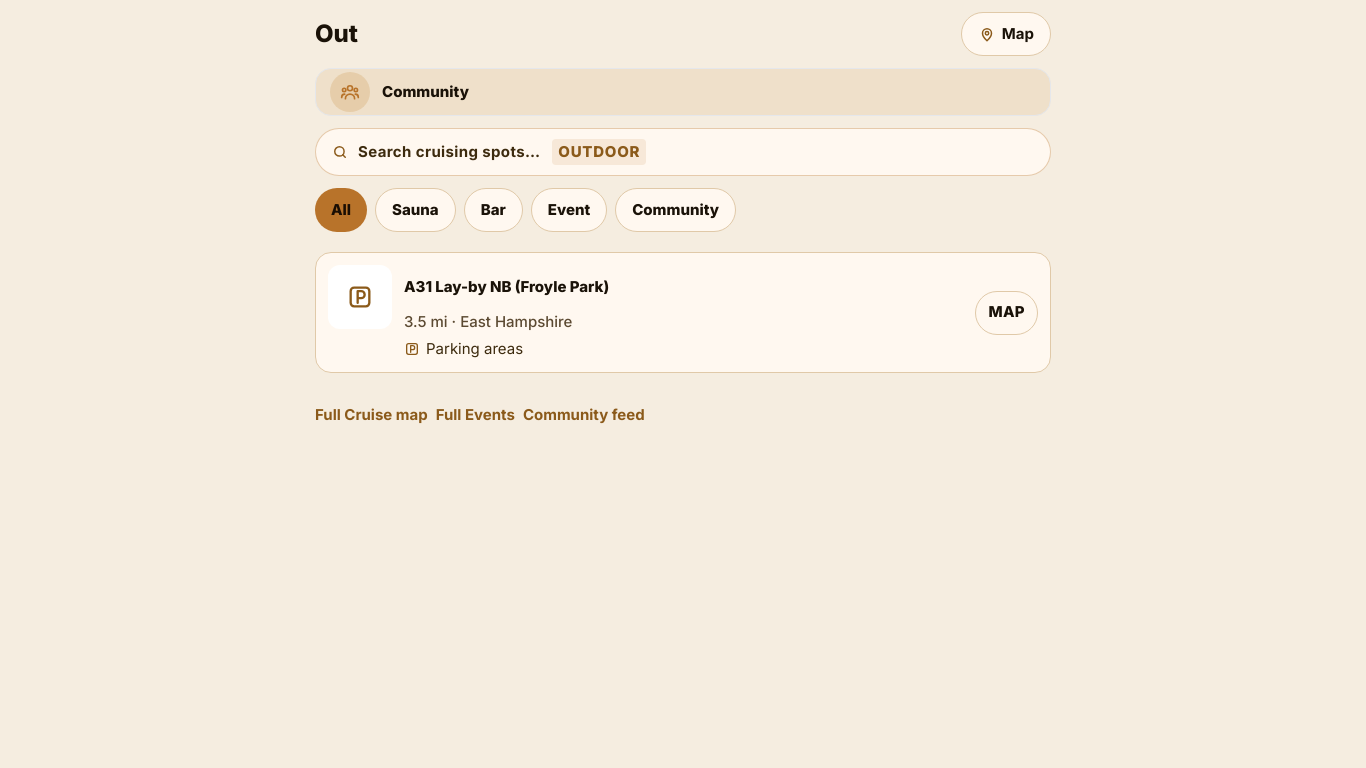
Test: Out spot card opens the spot sheet › tapping the card shows name, type, distance, reviews, check in, anonymous check in, directions and map
The image size is (1366, 768).
What coordinates should you click on to do the following:
click the button "A31 Lay-by NB (Froyle Park)"
I would click on:
 (507, 286)
Its box is [404,265,963,309].
(page scrolled)
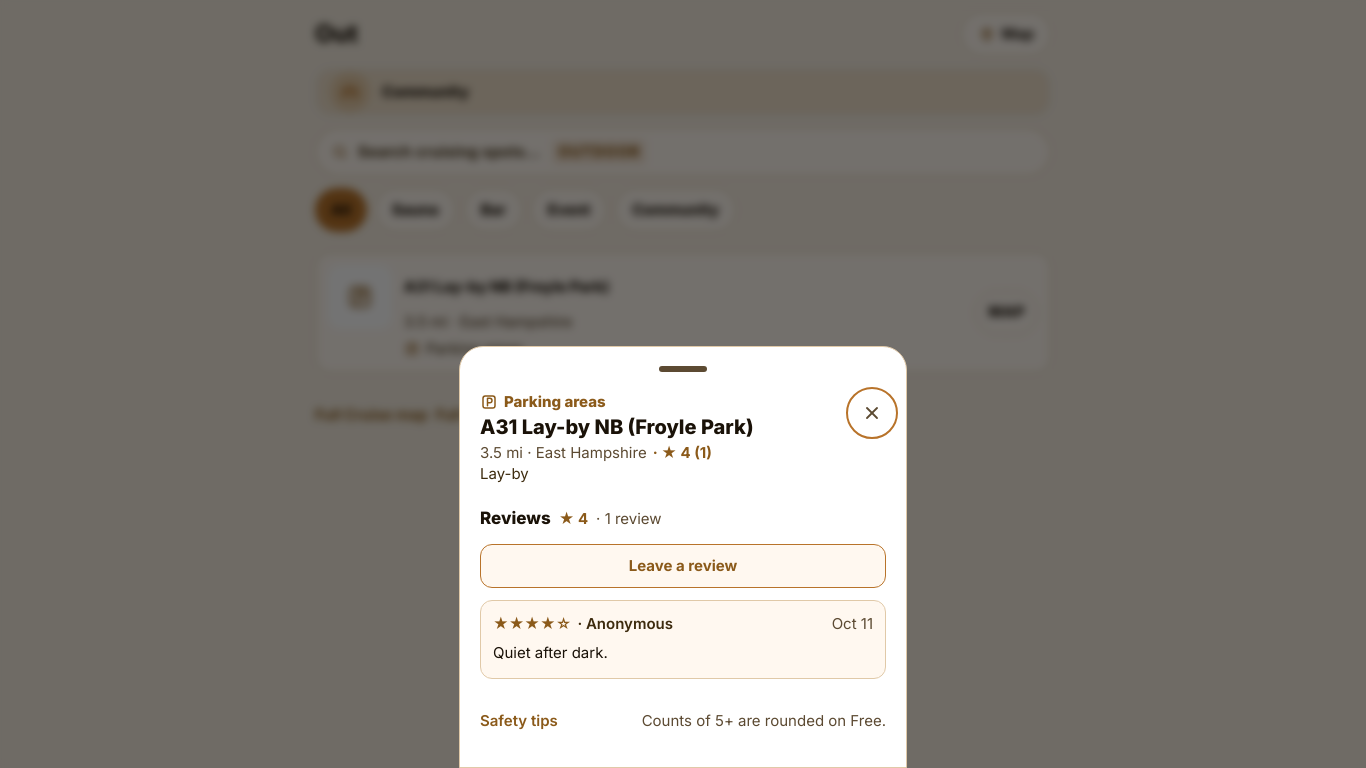
expect the heading "A31 Lay-by NB (Froyle Park)" is shown: met, box [480,415,754,439]
expect the element with test id "hotspot-sheet-type" reads "Parking areas": met, box [504,392,606,411]
expect the element with test id "hotspot-sheet-meta" shows "East Hampshire": met, box [480,443,647,462]
